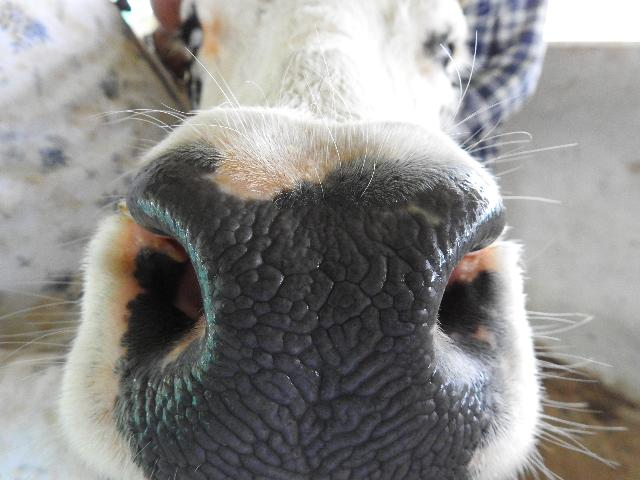Muzzle: (149, 190, 463, 474)
